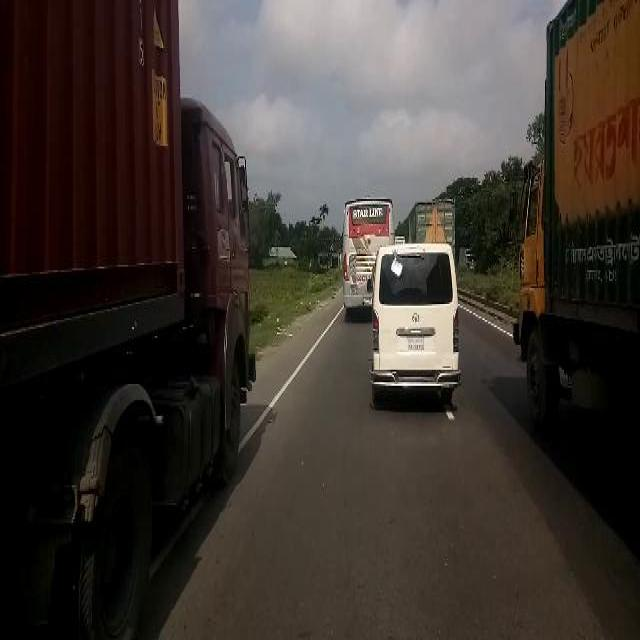bus: (338, 196, 393, 311)
truck: (4, 2, 255, 636), (514, 0, 639, 421), (373, 246, 460, 398), (405, 201, 456, 238), (458, 246, 475, 270)
